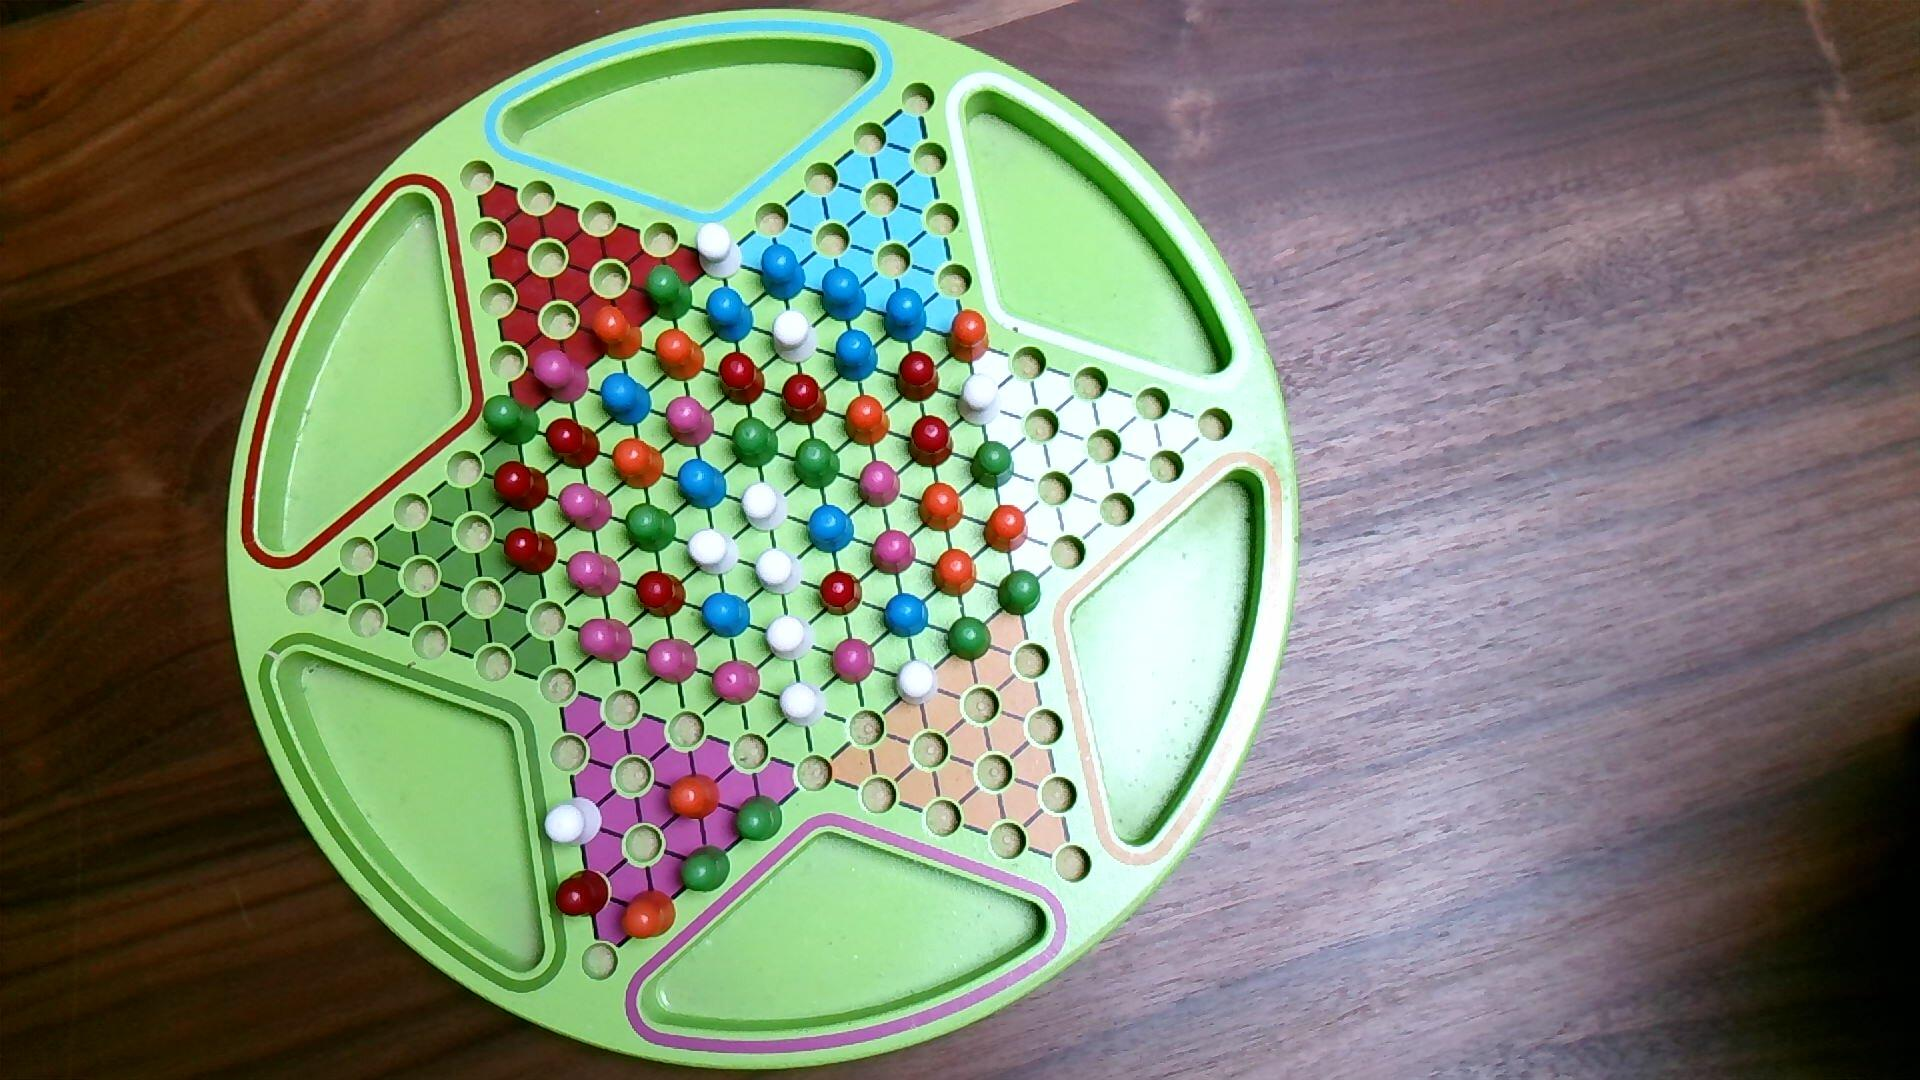B: (600, 371, 654, 429), (705, 285, 756, 345), (760, 244, 808, 305), (676, 458, 729, 512), (884, 286, 930, 345), (804, 502, 856, 555), (822, 265, 868, 323), (833, 328, 881, 384), (702, 592, 752, 640), (882, 593, 931, 640)
G: (483, 394, 542, 448), (644, 262, 694, 324), (624, 502, 678, 555), (679, 844, 733, 895), (793, 436, 843, 492), (731, 415, 779, 468), (735, 795, 785, 843), (945, 615, 993, 665), (998, 568, 1043, 618), (971, 440, 1015, 491)
O: (589, 305, 645, 363), (620, 889, 678, 942), (612, 438, 667, 492), (654, 328, 707, 384), (666, 773, 723, 823), (843, 394, 891, 448), (982, 504, 1030, 556), (919, 480, 965, 534), (931, 547, 978, 599), (945, 309, 990, 363)
R: (545, 417, 603, 473), (492, 460, 551, 516), (502, 526, 559, 578), (554, 868, 611, 918), (636, 570, 688, 621), (906, 415, 956, 469), (781, 373, 829, 429), (717, 351, 766, 406), (895, 351, 942, 405), (818, 568, 865, 618)
R2: (531, 348, 591, 406), (556, 483, 615, 535), (578, 617, 634, 667), (566, 550, 622, 600), (665, 396, 716, 448), (646, 638, 700, 688), (709, 659, 764, 708), (857, 459, 903, 512), (829, 637, 877, 687), (872, 529, 918, 578)
W: (543, 796, 605, 849), (695, 220, 744, 282), (771, 309, 820, 367), (740, 481, 791, 535), (955, 372, 1004, 429), (688, 527, 742, 578), (778, 680, 829, 731), (764, 615, 816, 663), (753, 549, 804, 597), (893, 657, 940, 708)
